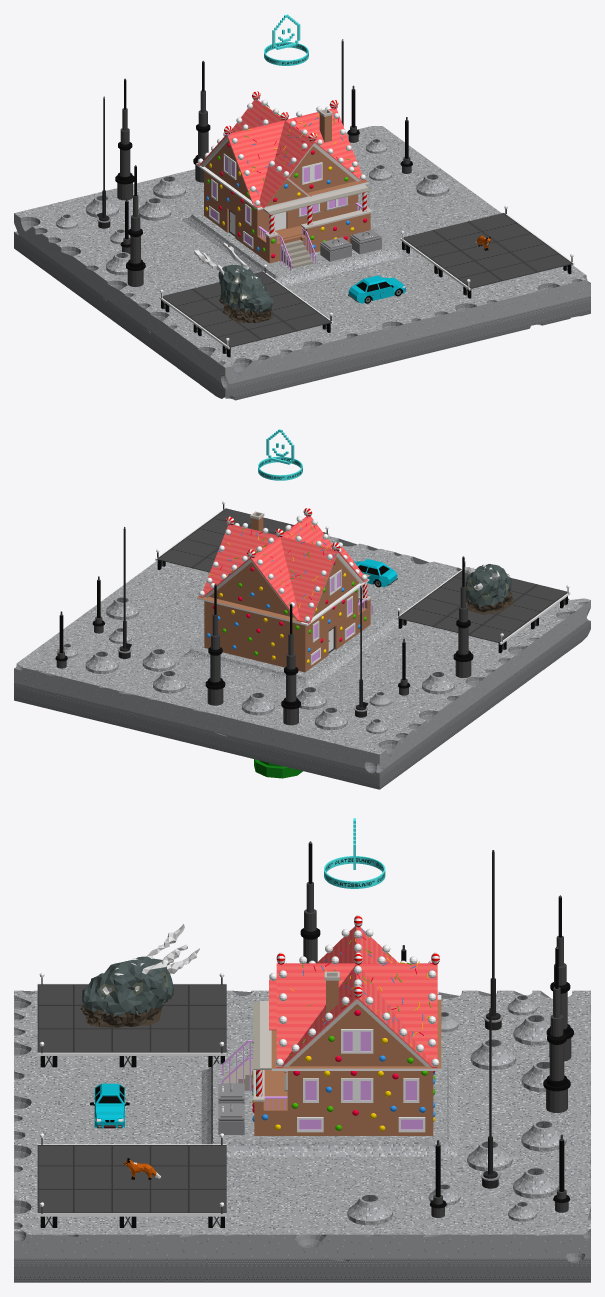
3 views of the same model, one above another, from view 1: azimuth 30°, elevation 25°; view 2: azimuth 150°, elevation 25°; view 3: azimuth 270°, elevation 25° (orthographic). The views are drawn at different scales.
Visible parts, largest first — view 1: Cube.027, Cube.1203, Cube.026, Cube.025, Cube.028, OBJRANDOM_METEORITE, Cylinder.021, Cylinder.020, VEHICLES_CAR, TYPE_PREMIUM, Cylinder.017, Cube.029 (+4 smaller); view 2: Cube.027, Cube.1203, Cube.025, Cube.028, Cube.026, OBJRANDOM_METEORITE, Cylinder.017, Cylinder.021, Cylinder.020, TYPE_PREMIUM, VEHICLES_CAR, Cylinder.030 (+9 smaller); view 3: Cube.027, Cube.1203, Cube.026, Cube.025, Cube.028, OBJRANDOM_METEORITE, Cylinder.017, VEHICLES_CAR, Cylinder.020, Cylinder.021, TYPE_PREMIUM, Cylinder.033 (+11 smaller).
Part boxes in pixels (x1,y1,x2,y2): Cube.027: (14,126,590,400); Cube.1203: (196,91,372,269); Cube.026: (400,205,574,298); Cube.025: (159,264,333,357); Cube.028: (182,211,403,286); OBJRANDOM_METEORITE: (194,242,273,323); Cylinder.021: (126,165,145,286); Cylinder.020: (115,78,134,200); VEHICLES_CAR: (348,275,405,303); TYPE_PREMIUM: (264,14,308,65); Cylinder.017: (193,60,210,182); Cube.029: (320,237,351,261); Cube.027: (14,536,590,789); Cube.1203: (197,508,372,672); Cube.025: (396,560,570,653); Cube.028: (181,610,398,688); Cube.026: (155,501,329,572); OBJRANDOM_METEORITE: (464,563,513,614); Cylinder.017: (205,583,225,705); Cylinder.021: (453,556,473,677); Cylinder.020: (281,603,300,725); TYPE_PREMIUM: (258,429,302,480); VEHICLES_CAR: (354,559,397,587); Cylinder.030: (142,648,175,671); Cube.027: (14,990,590,1282); Cube.1203: (222,915,441,1135); Cube.026: (37,1133,226,1227); Cube.025: (37,973,226,1067); Cube.028: (201,1063,457,1156); OBJRANDOM_METEORITE: (80,924,199,1027); Cylinder.017: (543,946,570,1112); VEHICLES_CAR: (90,1083,129,1128); Cylinder.020: (546,895,573,1061); Cylinder.021: (300,841,320,963); TYPE_PREMIUM: (324,818,385,888); Cylinder.033: (347,1194,392,1225).
Size of the model in its own units: 4000 by 3287 by 4000.
45 materials, 6 textured.
